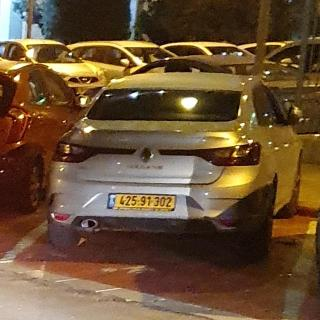LicensePlate: (115, 194, 175, 208)
